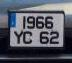2: (50, 31, 59, 44)
6: (39, 31, 49, 44), (36, 15, 44, 30), (45, 15, 53, 29)
9: (26, 15, 35, 29)
C: (23, 30, 32, 44)
I: (22, 15, 26, 29)
Y: (14, 30, 23, 44)
